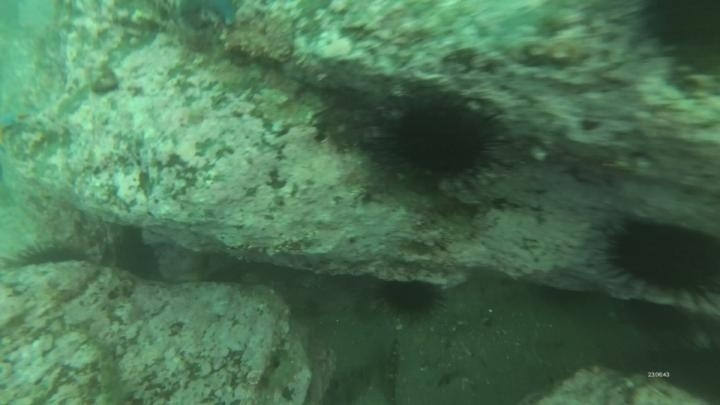echinus: (371, 90, 507, 198), (600, 212, 719, 305), (637, 1, 719, 53), (8, 232, 94, 271), (376, 275, 446, 321)
starfish: (174, 0, 244, 31)
